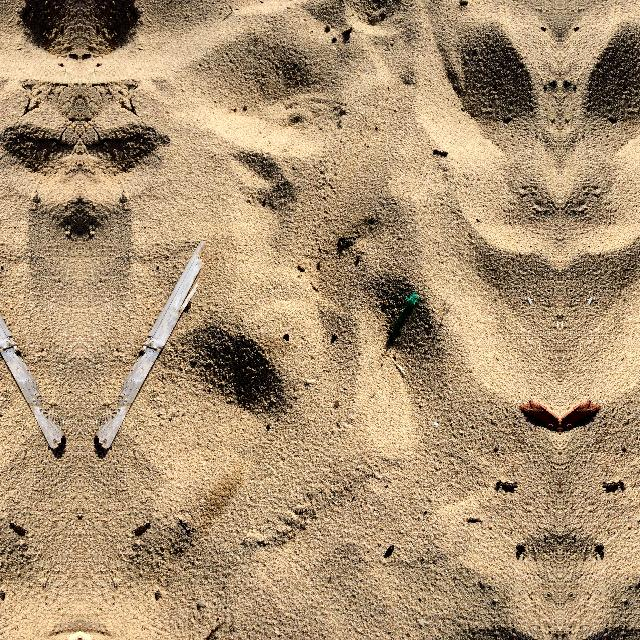Plastic: (89, 236, 219, 462), (0, 236, 71, 461), (375, 277, 433, 357)
